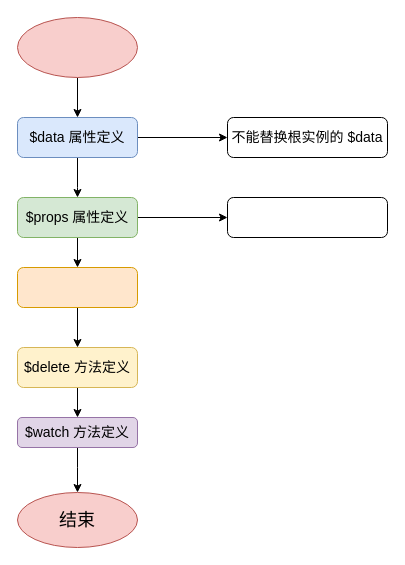
This 405x565 diagram has some shape labels left out. The shapes that lost their labels are listed below. From the top down, each one's centre as x and y in pixels, then its label:
(x=77, y=47): 开始
(x=307, y=217): 只读属性，不可更改
(x=77, y=287): $set 方法定义
